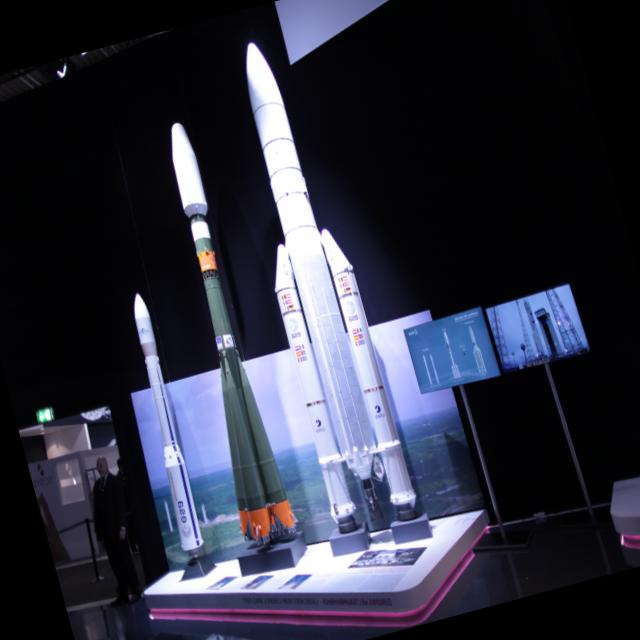rocket: (200, 18, 428, 558), (141, 99, 306, 565), (112, 282, 225, 578)
